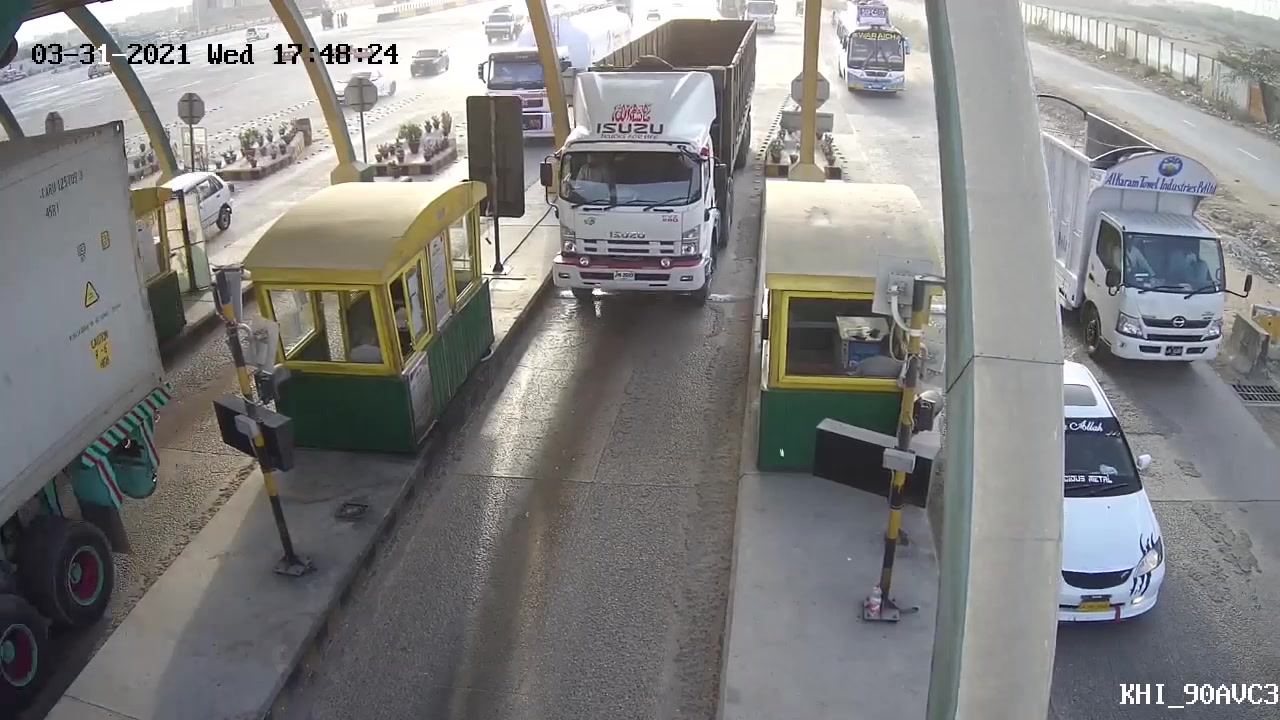F5: (537, 14, 764, 308)
